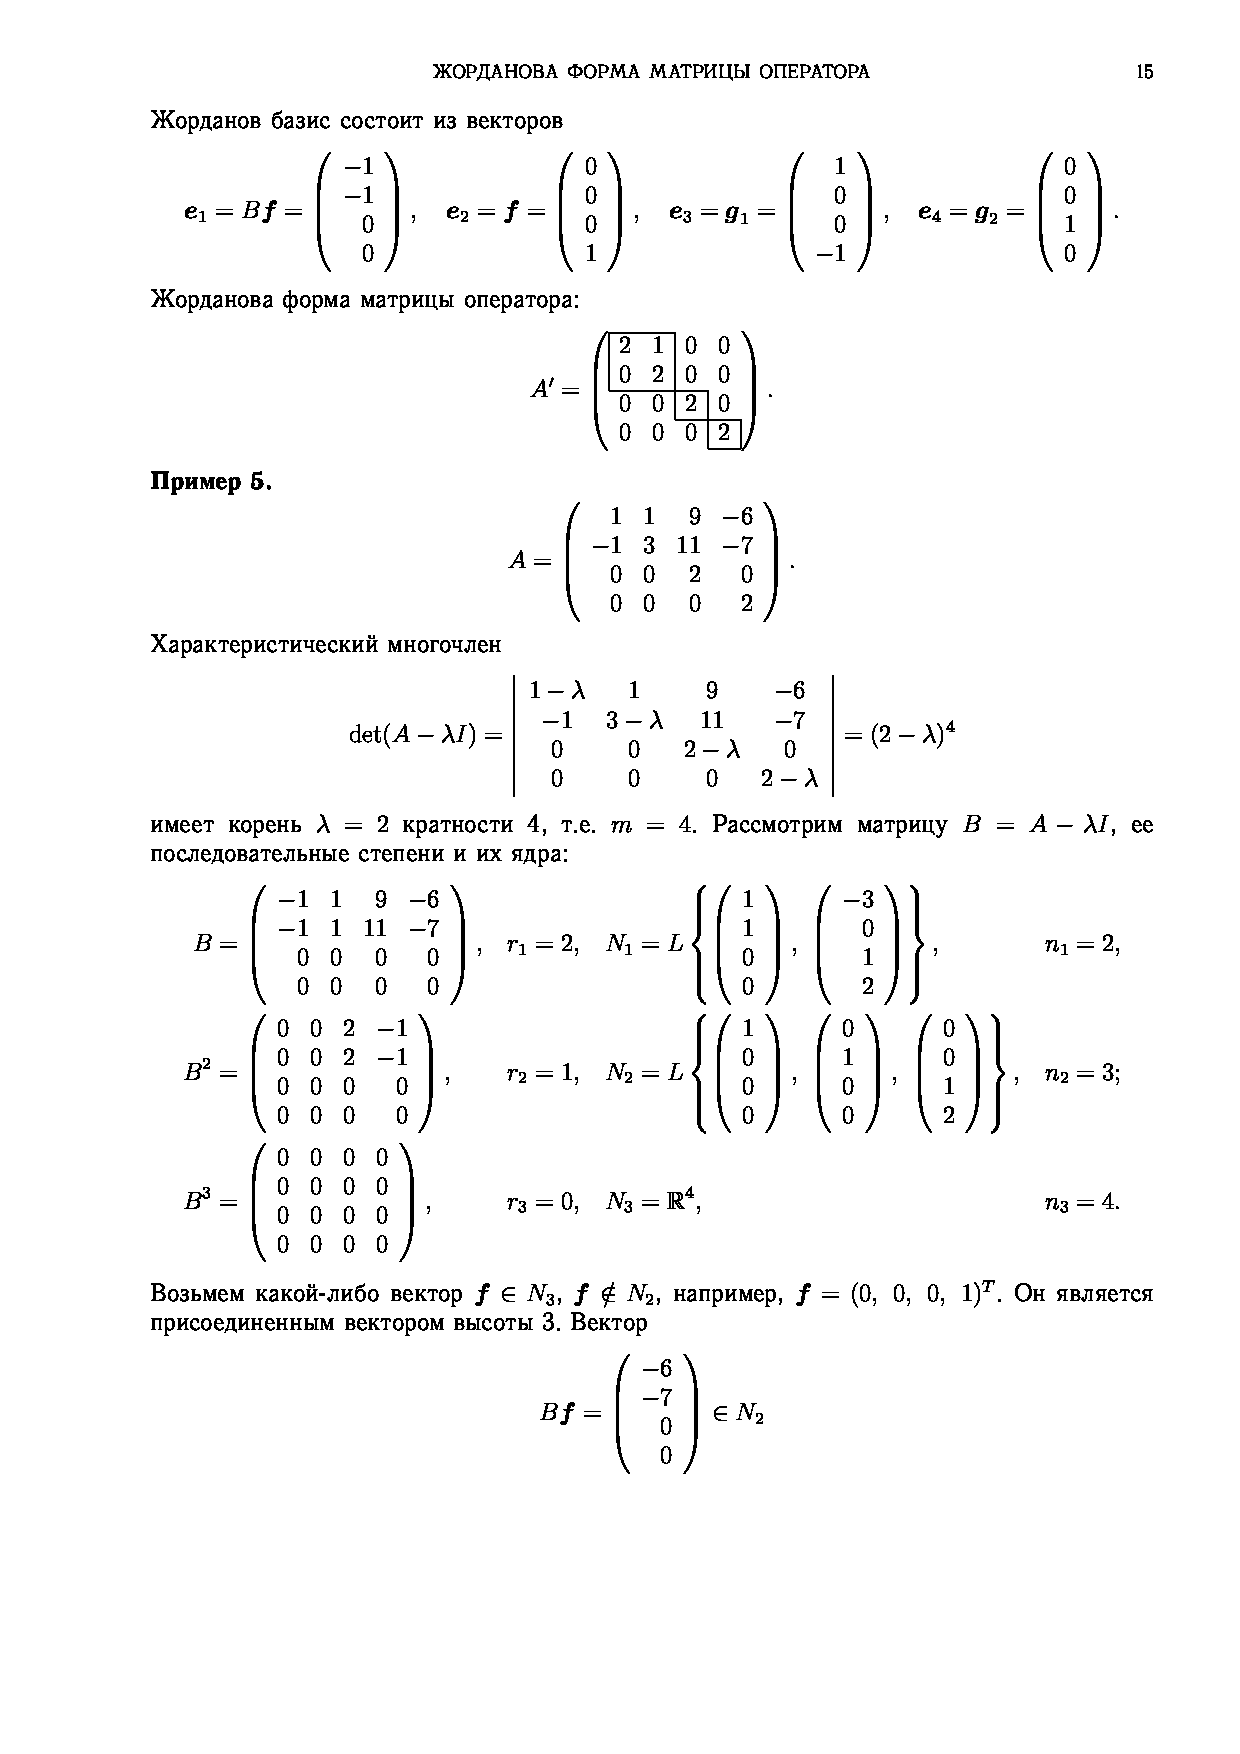lMatrix: (510, 667, 840, 809)
pMatrix: (248, 880, 470, 1016), (564, 497, 778, 631), (246, 1139, 421, 1274), (248, 1015, 437, 1135), (588, 327, 762, 458), (613, 1349, 705, 1484), (317, 149, 408, 282), (817, 876, 900, 1015), (790, 149, 875, 275), (556, 148, 625, 278), (1037, 146, 1104, 275), (817, 1013, 884, 1139), (715, 882, 780, 1009), (915, 1011, 977, 1142), (717, 1015, 780, 1135)
